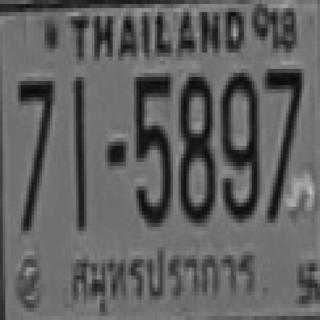N01: (72, 77, 85, 227)
N05: (134, 73, 171, 223)
N07: (262, 65, 302, 219), (16, 77, 52, 227)
N08: (178, 73, 212, 219)
N09: (218, 69, 257, 219)
P57: (66, 246, 264, 312)
